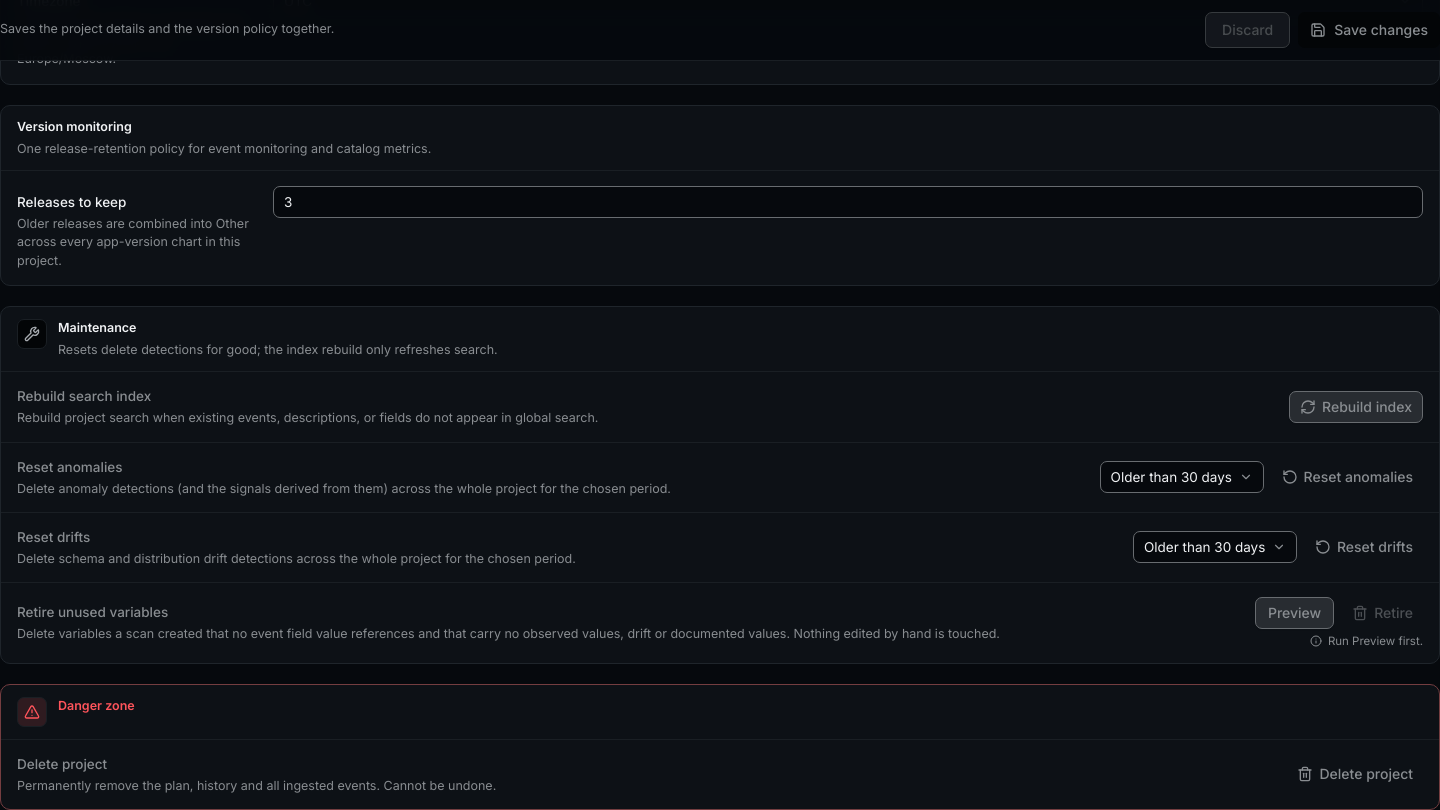
Test: ProjectGeneralSection — retire unused variables › shows a failed preview after an earlier retire, instead of the stale retire result
(page scrolled)
Click the button "Preview".
click(1295, 613)  # box [1255,597,1334,629]
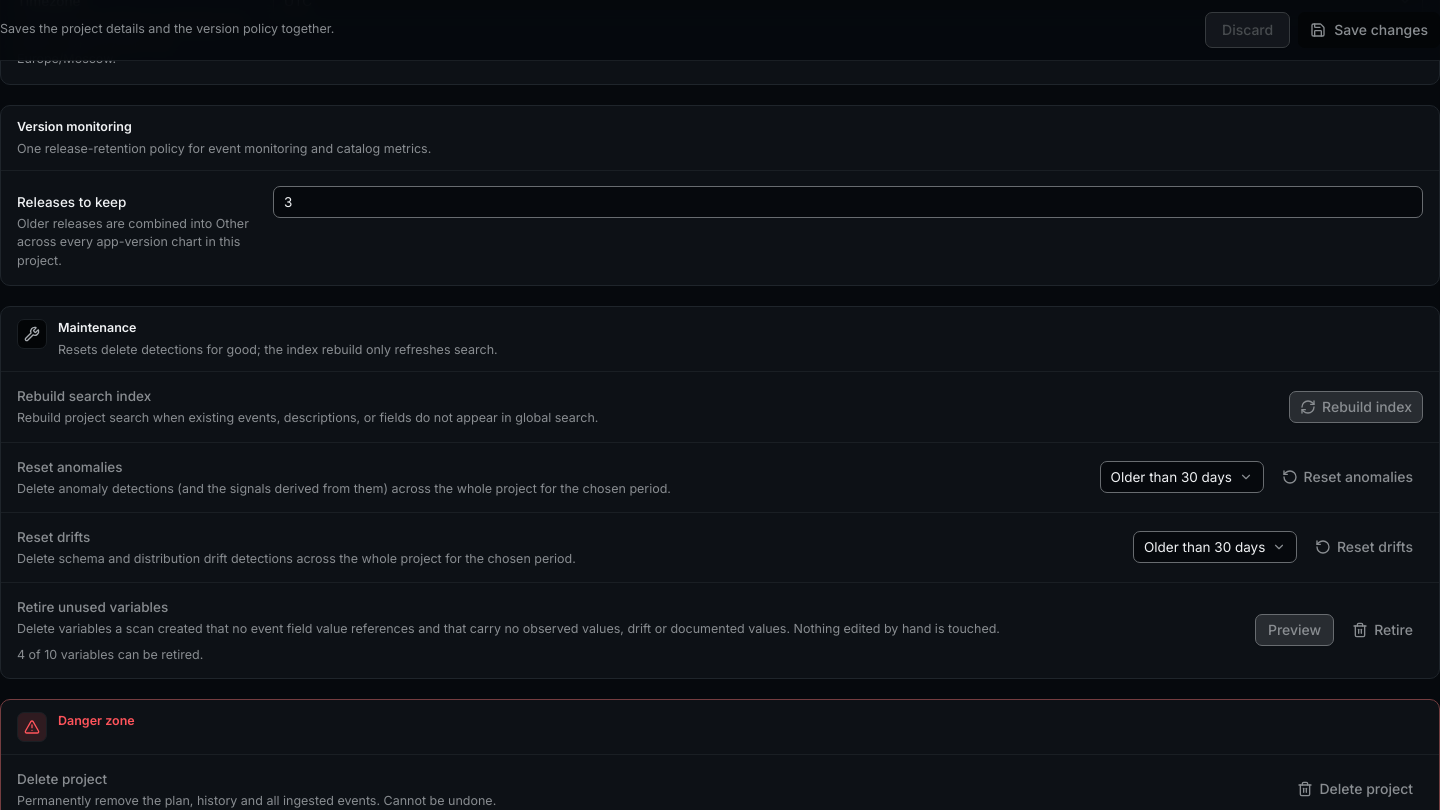
Now the text "4 of 10 variables can be retired." is shown, box [17,647,203,662]
Click the button "Retire".
click(1383, 630)  # box [1342,614,1423,646]
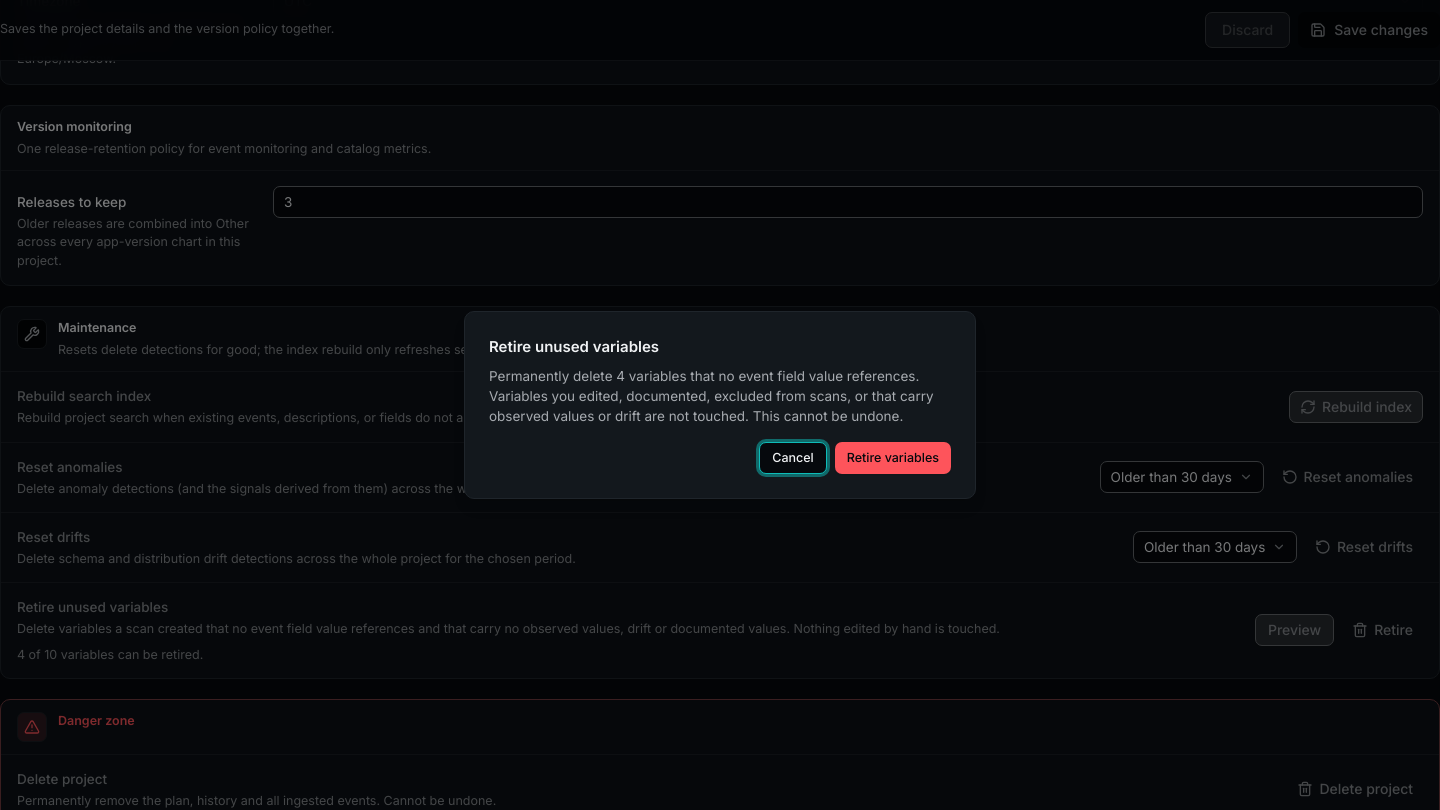
Click the button "Retire variables".
click(893, 458)  # box [835,442,951,474]
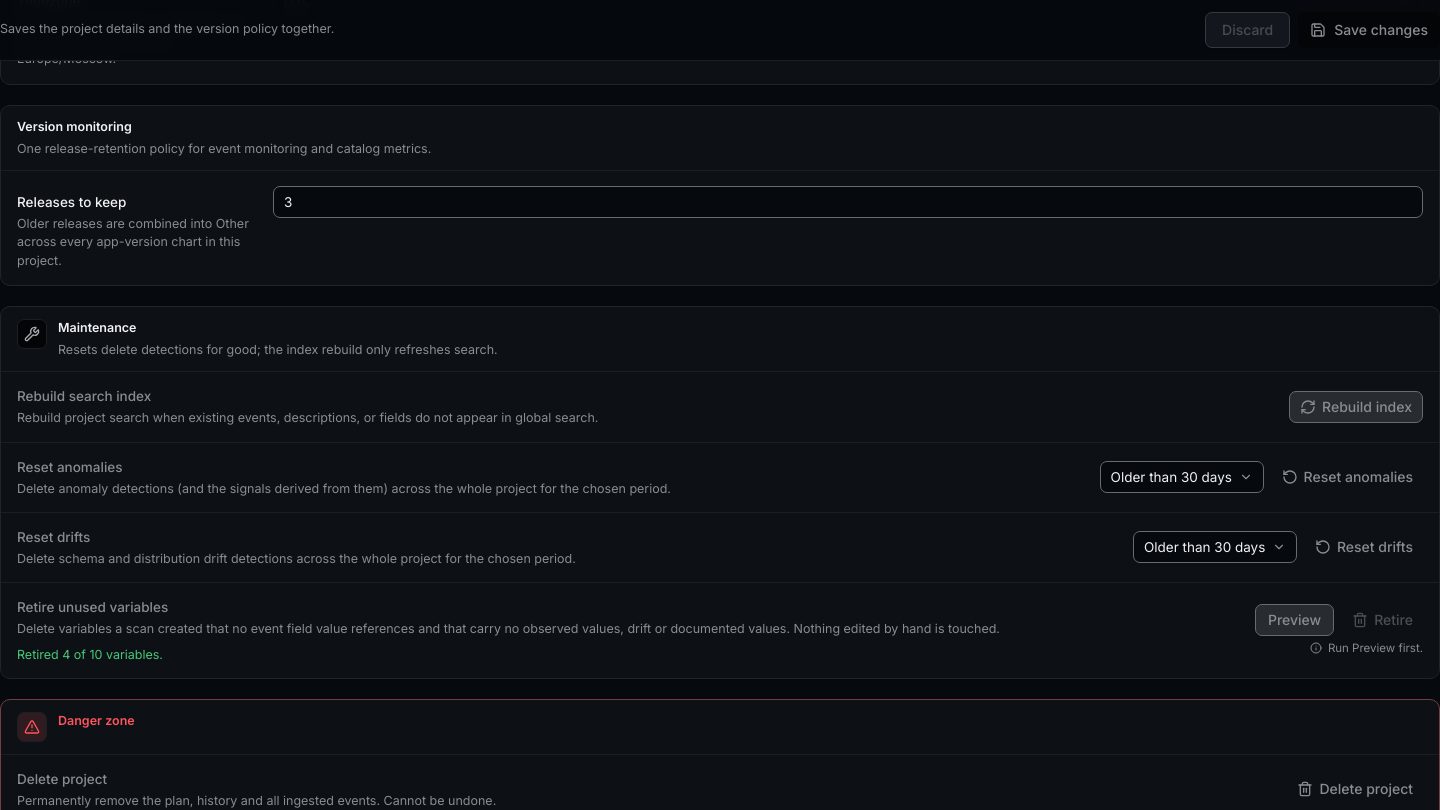
Now the text "Retired 4 of 10 variables." is shown, box [17,647,163,662]
Click the button "Preview".
click(1295, 620)  # box [1255,604,1334,636]
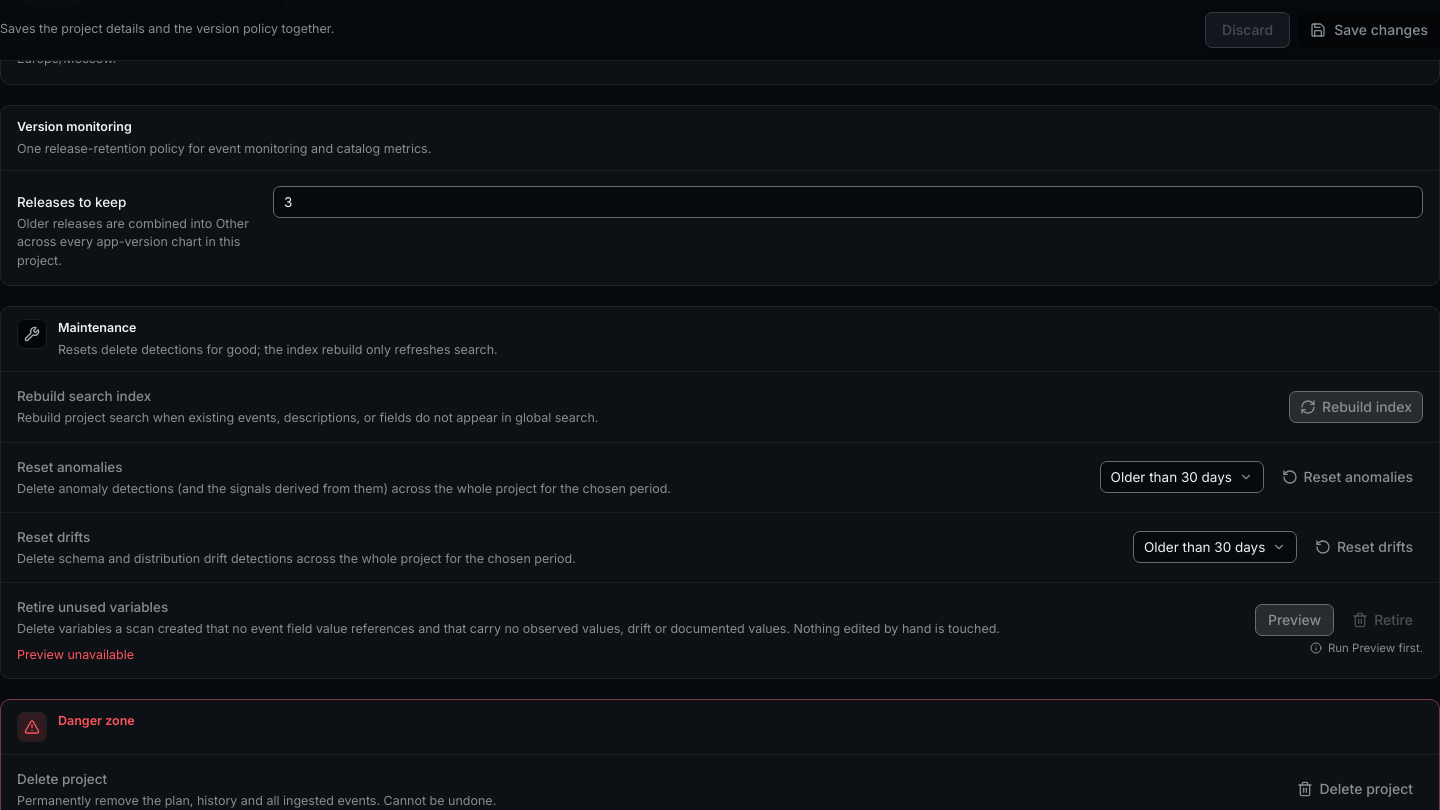
Now the text "Preview unavailable" is shown, box [17,647,134,662]
Now the text "Retired 4 of 10 variables." is gone
